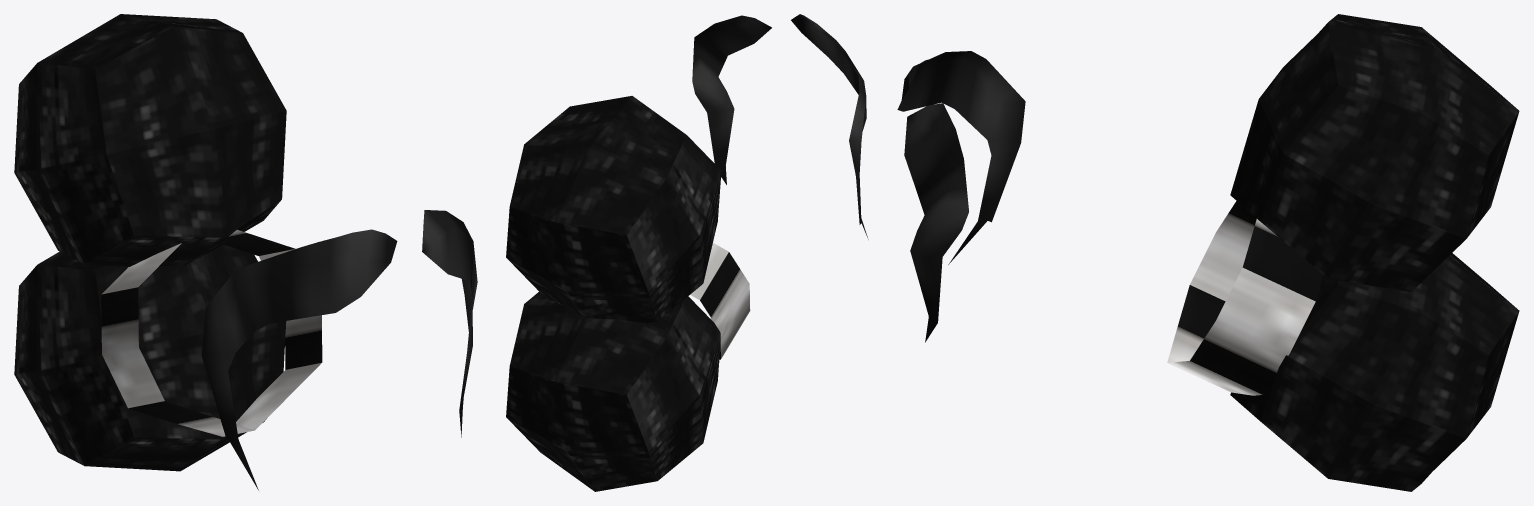
File: hair_aksum_female_02.dae
The picture shows the model from 3 angles, left to right: view 1: azimuth 30°, elevation 25°; view 2: azimuth 150°, elevation 25°; view 3: azimuth 270°, elevation 25°; orthographic projection. The views are drawn at different scales.
Visible parts, largest first — view 1: a_hair_aksum_female_02; view 2: a_hair_aksum_female_02; view 3: a_hair_aksum_female_02.
Boxes of the visible parts, x1=… form: a_hair_aksum_female_02: x1=14, y1=14, x2=477, y2=490; a_hair_aksum_female_02: x1=506, y1=14, x2=868, y2=491; a_hair_aksum_female_02: x1=897, y1=14, x2=1519, y2=491.
Size of the model in its own units: 0.362 by 0.8324 by 0.6821.
